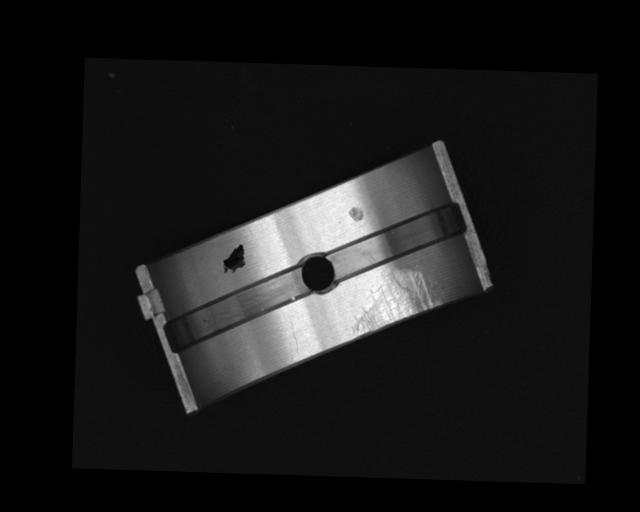blot: (221, 244, 247, 275)
bruise: (348, 206, 365, 223)
gap: (163, 262, 315, 353), (326, 199, 470, 285)
hole: (296, 250, 338, 297)
nick: (286, 319, 302, 357)
scratch: (351, 265, 445, 340)
